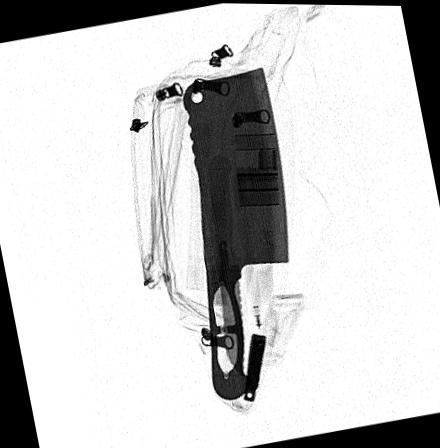Knife: (180, 65, 289, 400)
